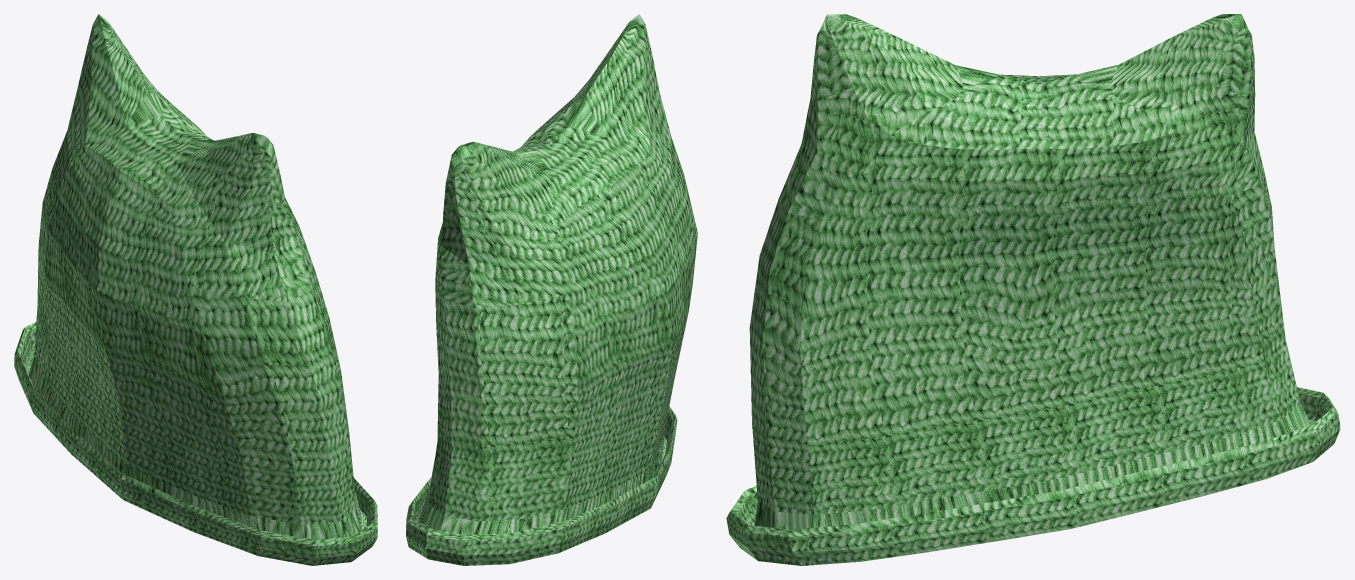
File: hat.fbx
3 views of the same model, side by side, from view 1: azimuth 30°, elevation 25°; view 2: azimuth 150°, elevation 25°; view 3: azimuth 270°, elevation 25° (orthographic). The views are drawn at different scales.
Visible parts, largest first — view 1: Hat; view 2: Hat; view 3: Hat.
Boxes of the visible parts, x1,y1,x2,y2 form: Hat: [14, 14, 377, 565]; Hat: [406, 14, 697, 565]; Hat: [726, 14, 1340, 565].
Bounding box in the file's own units: 22.8 × 45.21 × 49.88.
1 material, 1 textured.
